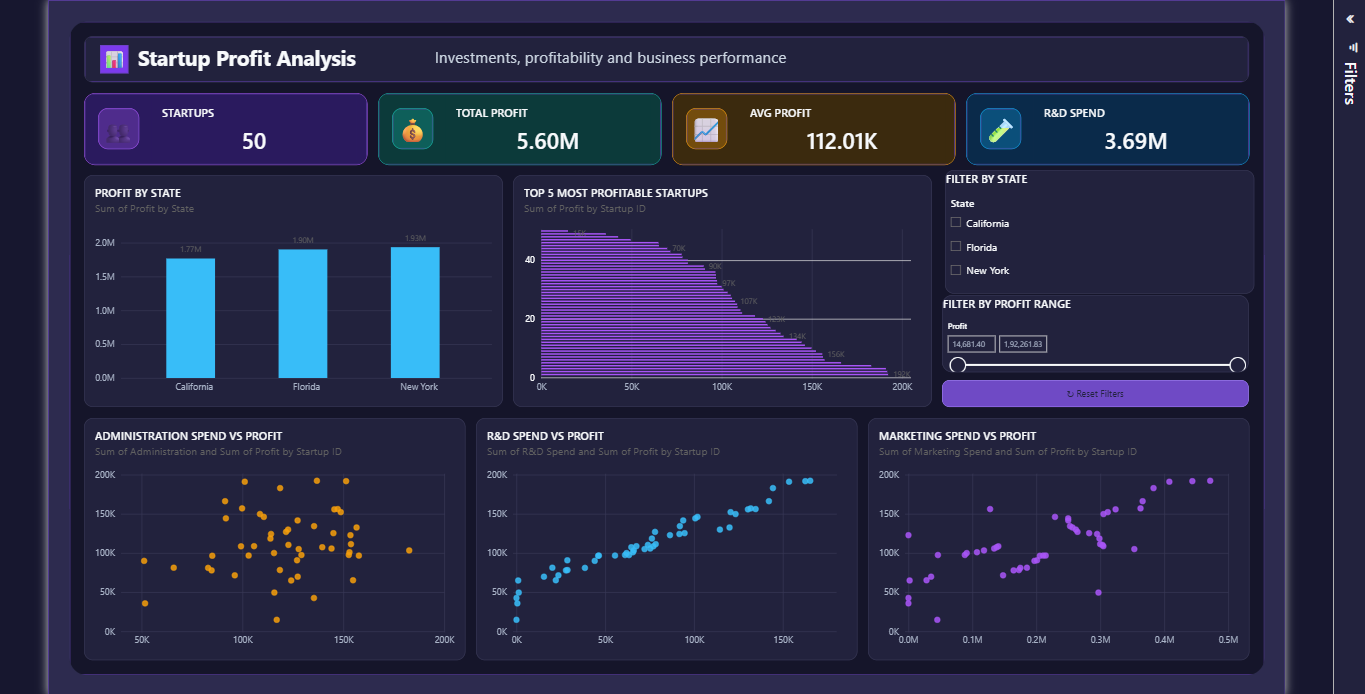

What the dashboard file says about the page in this screenshot:
{"tool":"powerbi","page":{"name":"Page 1","canvas":[1920,1080],"ordinal":0},"visuals":[{"type":"cardVisual","title":"STARTUPS","fields":{"Data":["CountNonNull(50_Startups.State)"]},"box":[85.7,92.9,247.7,80],"z":0},{"type":"cardVisual","title":"TOTAL PROFIT","fields":{"Data":["Sum(50_Startups.Profit)"]},"box":[377.1,92.9,262.9,80],"z":1000},{"type":"cardVisual","title":"AVG PROFIT","fields":{"Data":["Avg(50_Startups.Profit)"]},"box":[678.6,92.9,262.9,80],"z":2000},{"type":"cardVisual","title":"R&D SPEND","fields":{"Data":["Sum(50_Startups.R&D Spend)"]},"box":[991.4,92.9,262.9,80],"z":3000},{"type":"clusteredColumnChart","title":"TOTAL PROFIT BY STATE","fields":{"Category":["50_Startups.State"],"Y":["Sum(50_Startups.Profit)"]},"box":[85.7,264.3,468.6,292.9],"z":4000},{"type":"scatterChart","title":"R&D SPEND VS PROFIT","fields":{"Category":["50_Startups.Startup ID"],"X":["Sum(50_Startups.R&D Spend)"],"Y":["Sum(50_Startups.Profit)"]},"box":[86,567,469,293],"z":5000},{"type":"scatterChart","title":"MARKETING SPEND VS PROFIT","fields":{"Category":["50_Startups.Startup ID"],"X":["Sum(50_Startups.Marketing Spend)"],"Y":["Sum(50_Startups.Profit)"]},"box":[640,555.7,557.1,304.3],"z":6000},{"type":"scatterChart","title":"ADMINISTRATION SPEND VS PROFIT","fields":{"Category":["50_Startups.Startup ID"],"X":["Sum(50_Startups.Administration)"],"Y":["Sum(50_Startups.Profit)"]},"box":[654.2,212.5,469,292],"z":7000},{"type":"clusteredBarChart","title":"TOP 5 MOST PROFITABLE STARTUPS","fields":{"Category":["50_Startups.Startup ID"],"Y":["Sum(50_Startups.Profit)"]},"box":[1402,584,264,258],"z":8000},{"type":"slicer","title":"FILTER BY STATE","fields":{"Values":["50_Startups.State"]},"box":[1195.8,239.6,264,196],"z":9000},{"type":"textbox","box":[1353,22.7,313.6,268.2],"z":9001},{"type":"textbox","box":[1677,23,243,268],"z":9002}]}

Visuals, with their boxes on the page's 1920x1080 design canvas (x1, y1, x2, y2). These are canvas units, not pixel positions in the 1365x694 screenshot, which may show the page scaled, cropped or inside an application window:
"STARTUPS" cardVisual: bbox=(86, 93, 333, 173)
"TOTAL PROFIT" cardVisual: bbox=(377, 93, 640, 173)
"AVG PROFIT" cardVisual: bbox=(679, 93, 942, 173)
"R&D SPEND" cardVisual: bbox=(991, 93, 1254, 173)
"TOTAL PROFIT BY STATE" clusteredColumnChart: bbox=(86, 264, 554, 557)
"R&D SPEND VS PROFIT" scatterChart: bbox=(86, 567, 555, 860)
"MARKETING SPEND VS PROFIT" scatterChart: bbox=(640, 556, 1197, 860)
"ADMINISTRATION SPEND VS PROFIT" scatterChart: bbox=(654, 212, 1123, 504)
"TOP 5 MOST PROFITABLE STARTUPS" clusteredBarChart: bbox=(1402, 584, 1666, 842)
"FILTER BY STATE" slicer: bbox=(1196, 240, 1460, 436)
textbox: bbox=(1353, 23, 1667, 291)
textbox: bbox=(1677, 23, 1920, 291)
